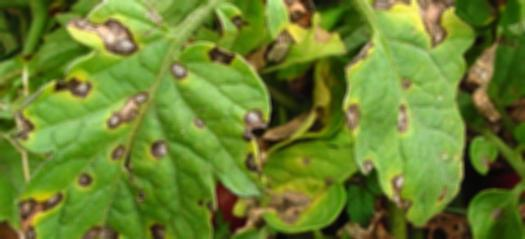Tomato leaf bacterial spot: (10, 6, 290, 239), (334, 0, 488, 239), (242, 122, 371, 239), (234, 0, 328, 47)
